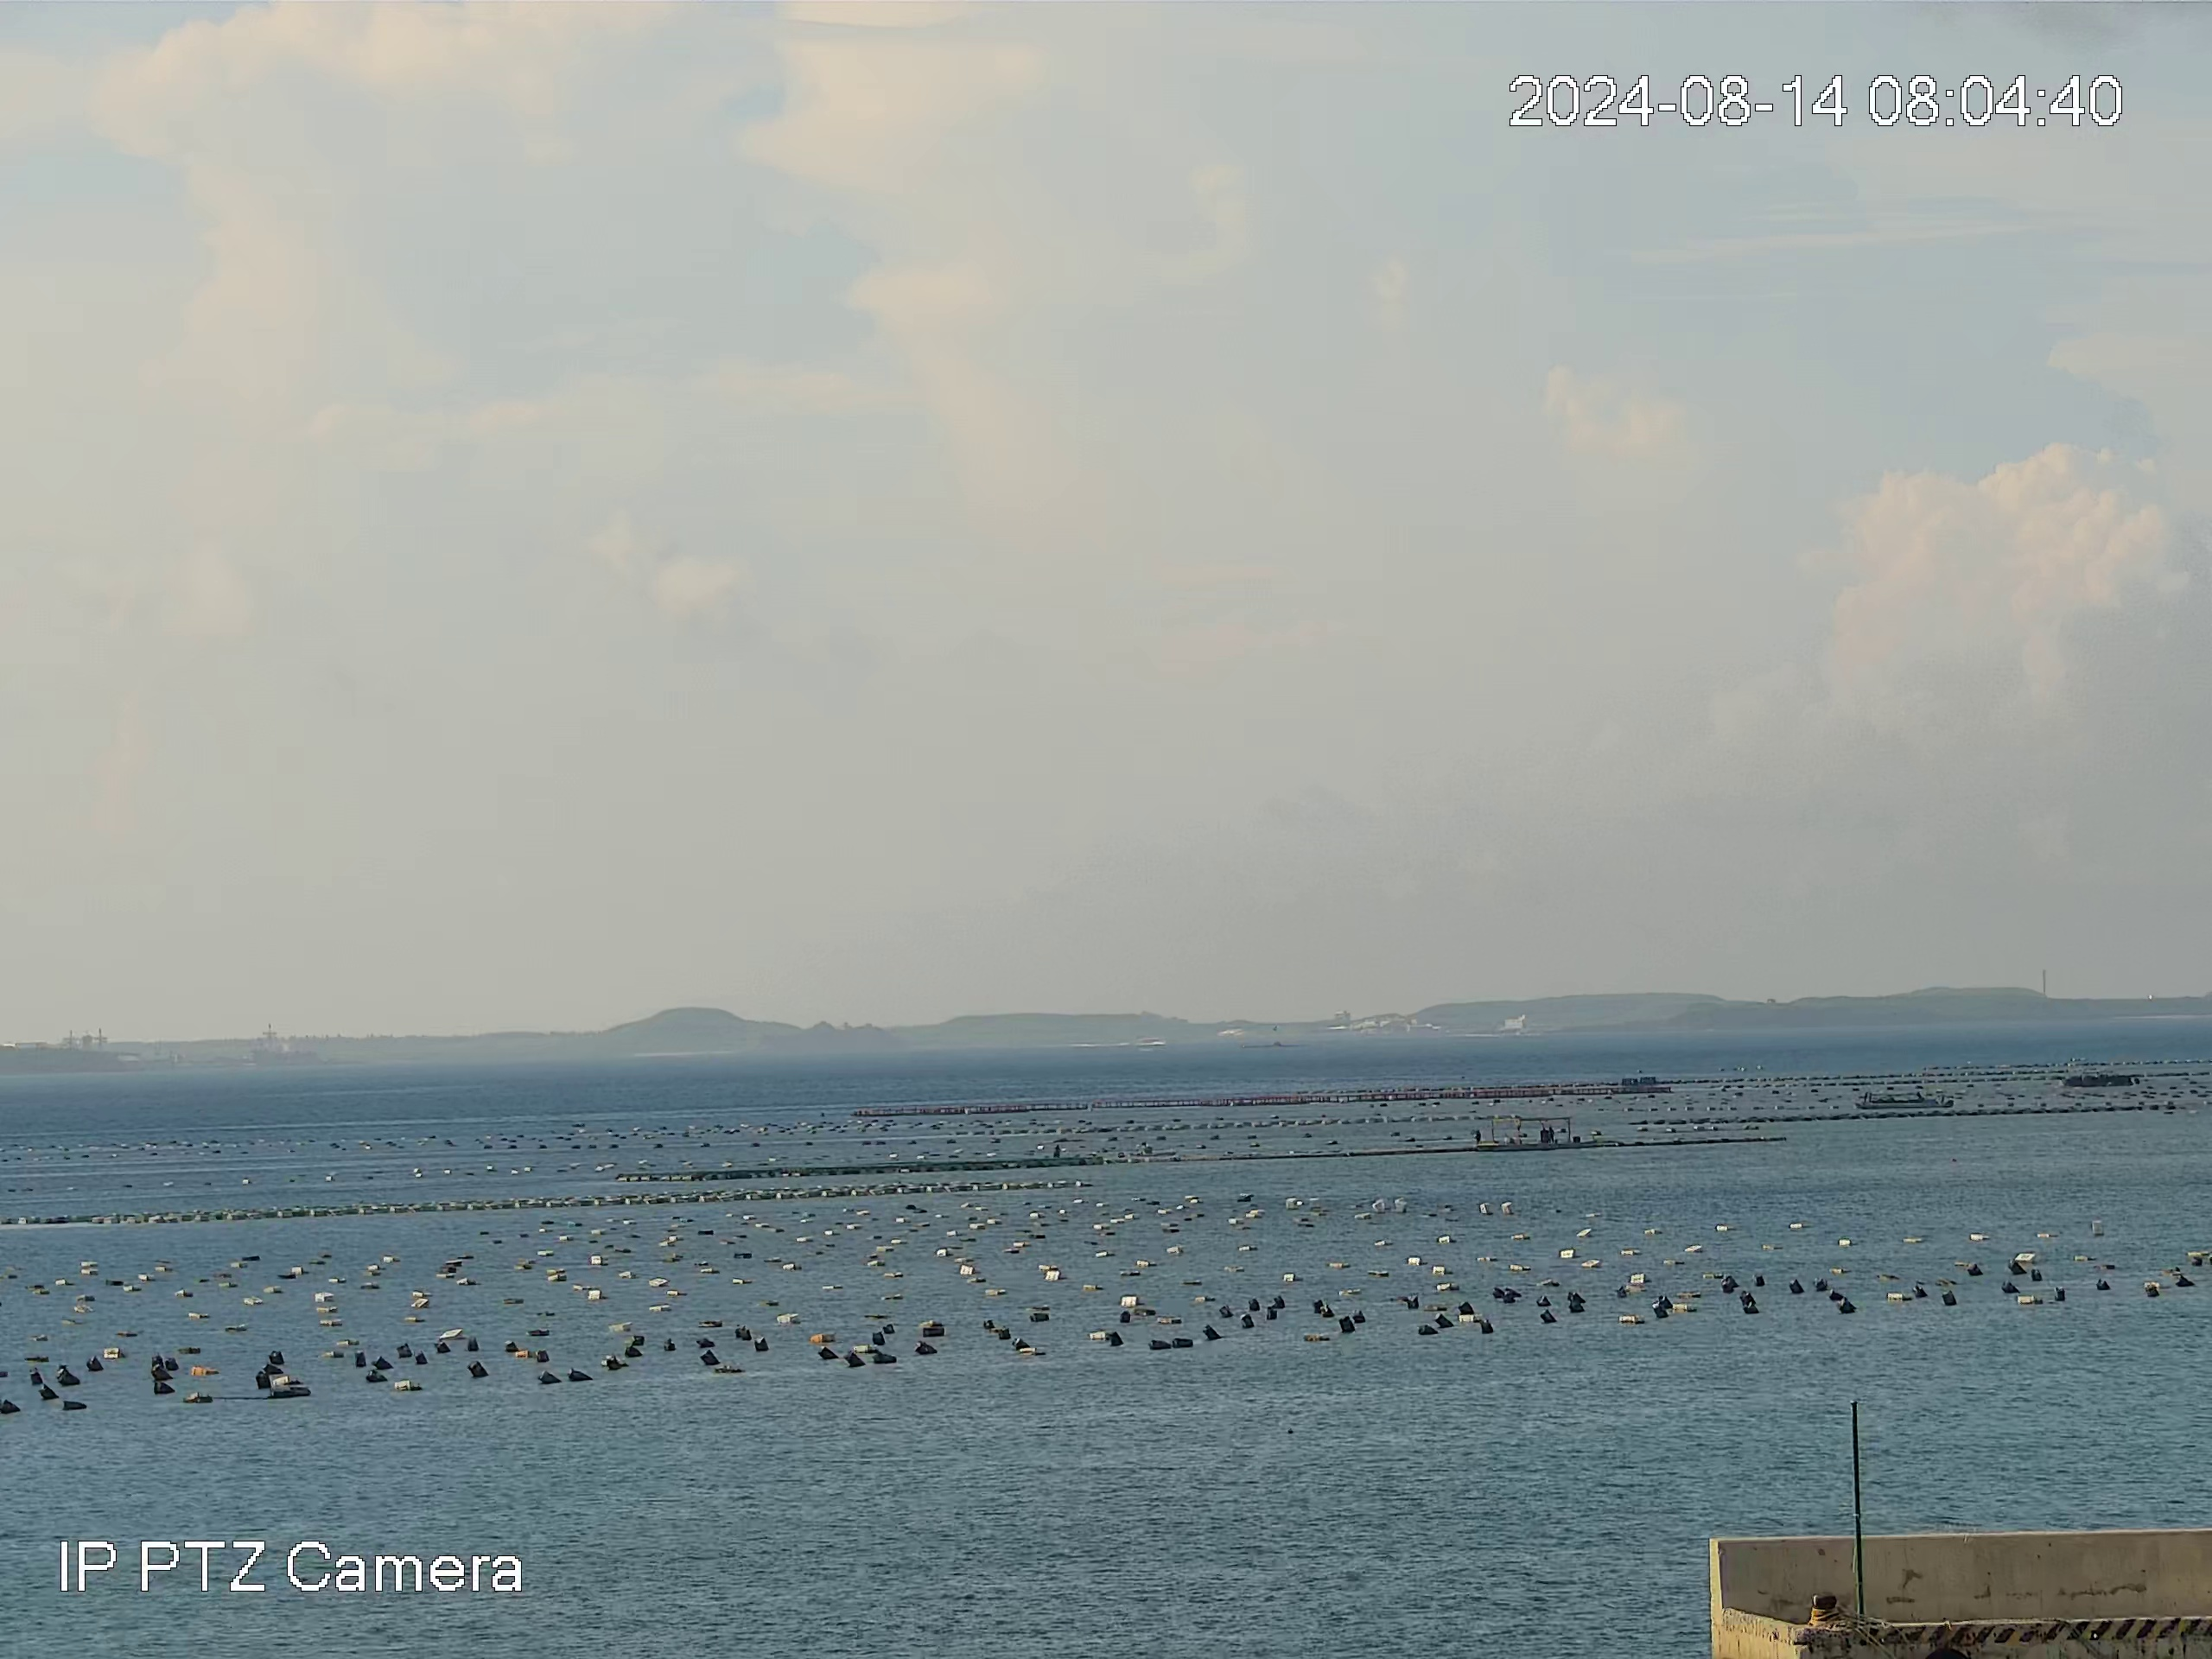boat: (1465, 1103, 1592, 1145), (1857, 1084, 1962, 1117), (2054, 1071, 2145, 1093)
